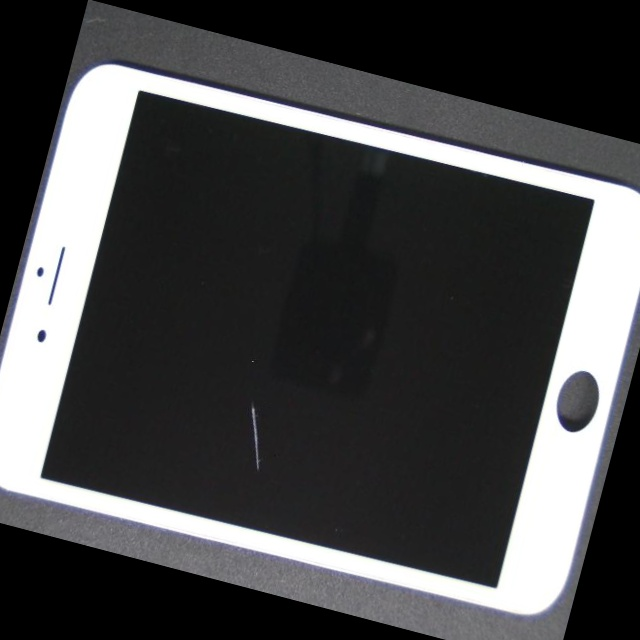scratch: (49, 134, 430, 608)
